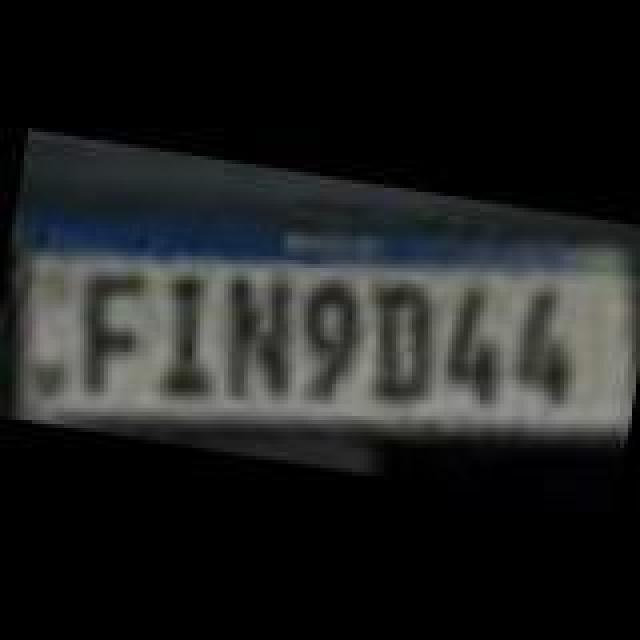4: (502, 276, 586, 412), (430, 276, 514, 412)
9: (284, 274, 372, 406)
D: (364, 276, 452, 412)
F: (66, 266, 158, 406)
I: (140, 262, 228, 402)
N: (206, 266, 298, 406)
